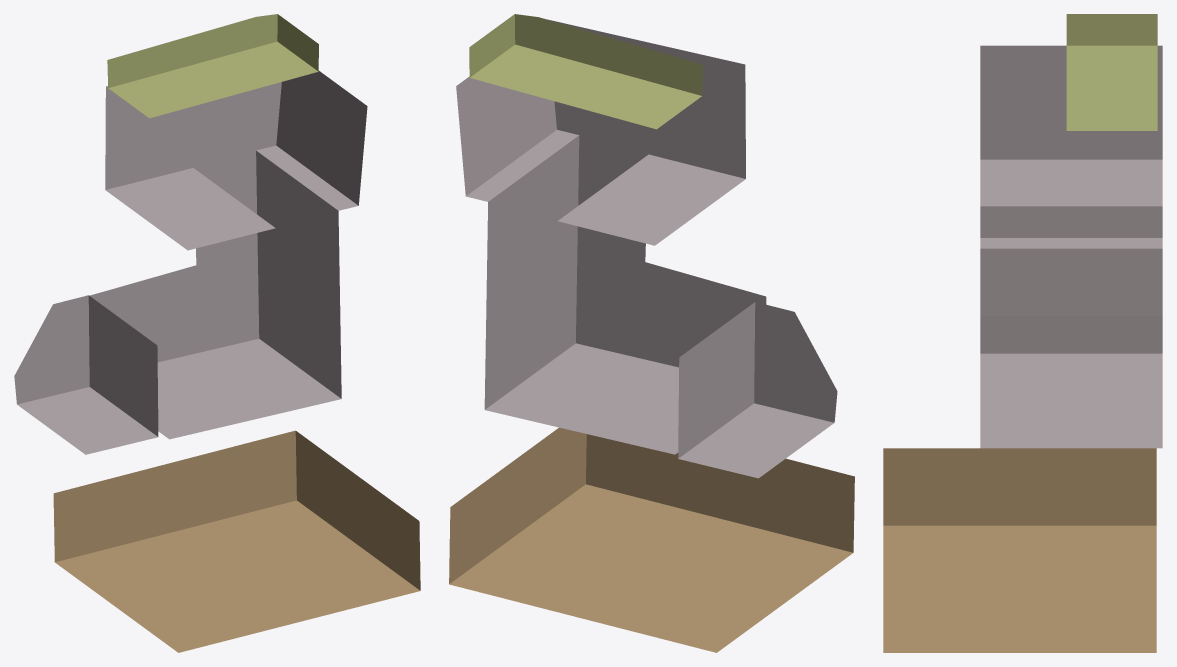
3 renders of one model, left to right at view 1: azimuth 30°, elevation 25°; view 2: azimuth 150°, elevation 25°; view 3: azimuth 270°, elevation 25°, orthographic. The views are drawn at different scales.
Visible parts, largest first — view 1: 0_0_1_2_0_0_1_1_0; view 2: 0_0_1_2_0_0_1_1_0; view 3: 0_0_1_2_0_0_1_1_0.
Boxes of the visible parts, <box> form: 0_0_1_2_0_0_1_1_0: <box>14,14,420,652</box>; 0_0_1_2_0_0_1_1_0: <box>449,14,854,652</box>; 0_0_1_2_0_0_1_1_0: <box>883,14,1162,652</box>.
Size of the model in its own units: 35.6 by 59.7 by 27.6.
